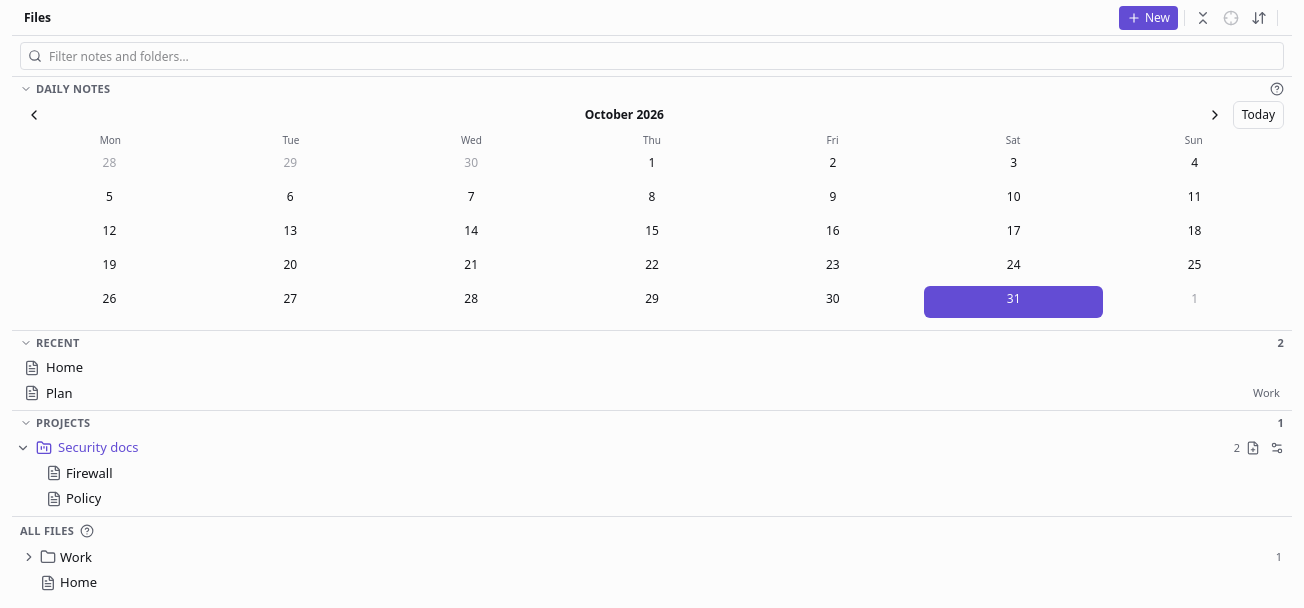
Test case: FilesPanel › the filter also searches inside projects and hides projects with no match
Type "policy" into the field named "Filter the file tree" at (652, 56), box [20,42,1284,70]
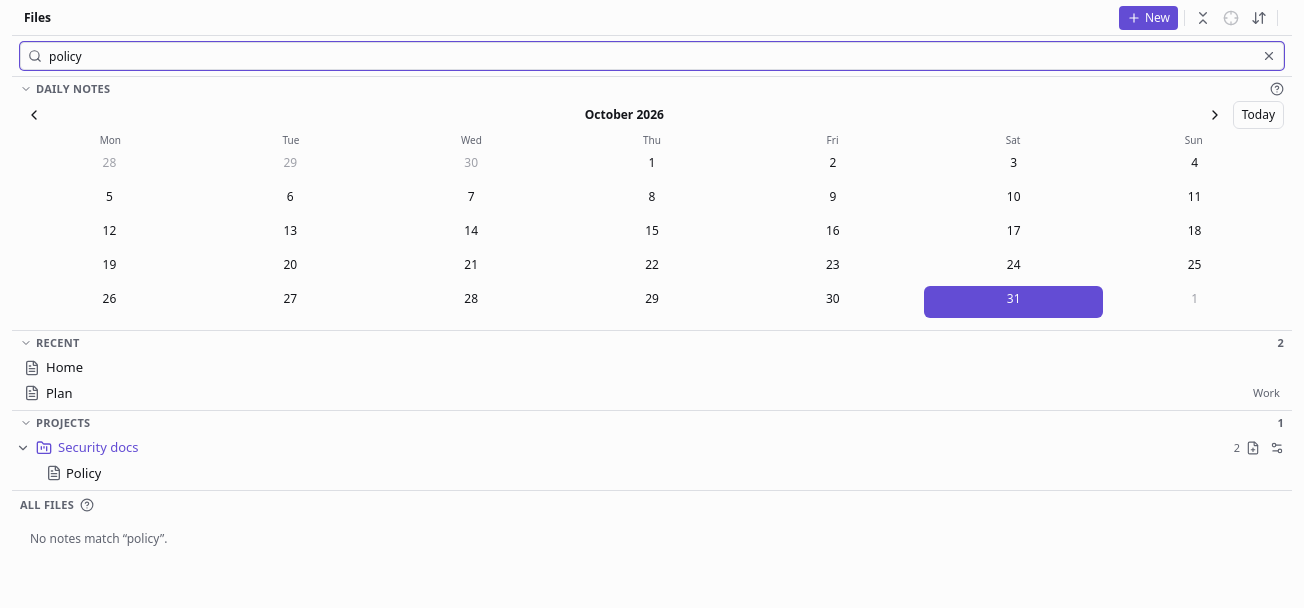
Expected: the list item "Policy" is shown, [46,464,101,482]
Replace the text in the field named "Filter the file tree" with "zzzz" at (652, 56), box [20,42,1284,70]
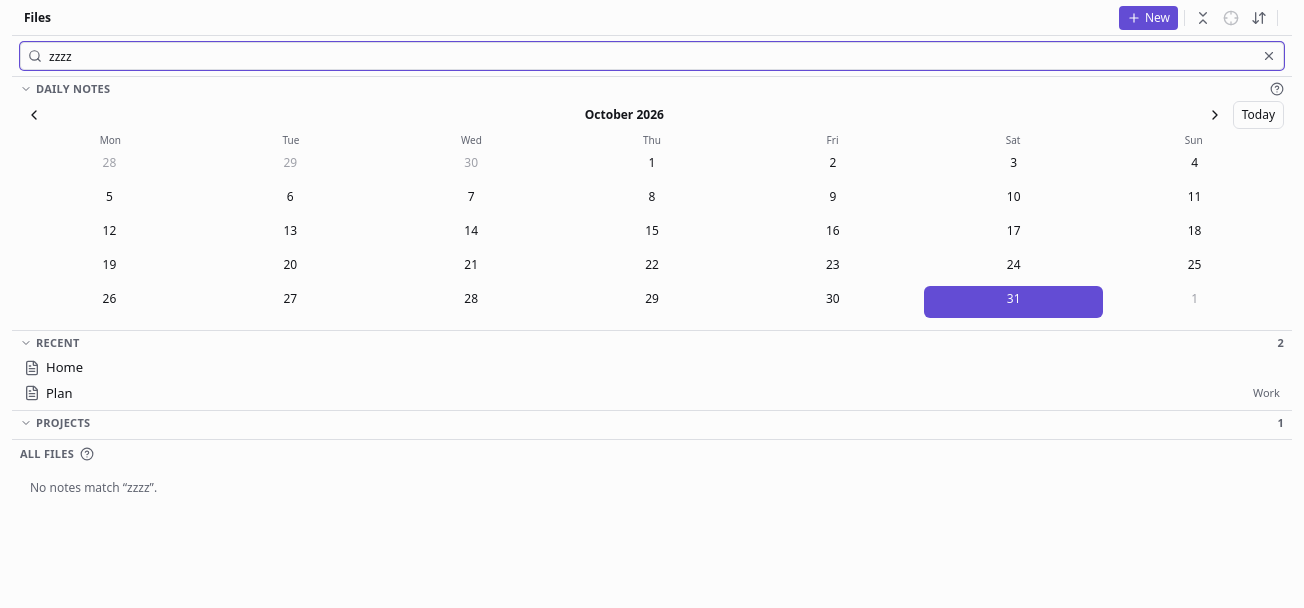
Result: the element with test id "project-Work/Security" is gone
